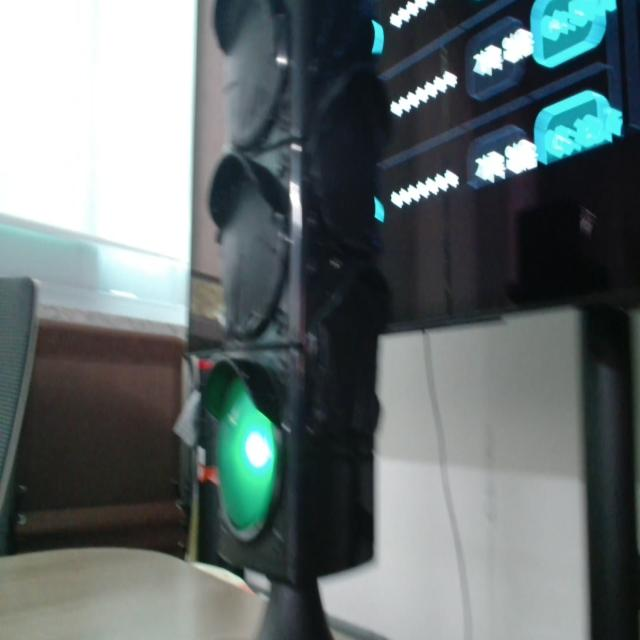green_light: (218, 379, 277, 532), (245, 431, 273, 469), (372, 21, 384, 55), (375, 198, 384, 222)
